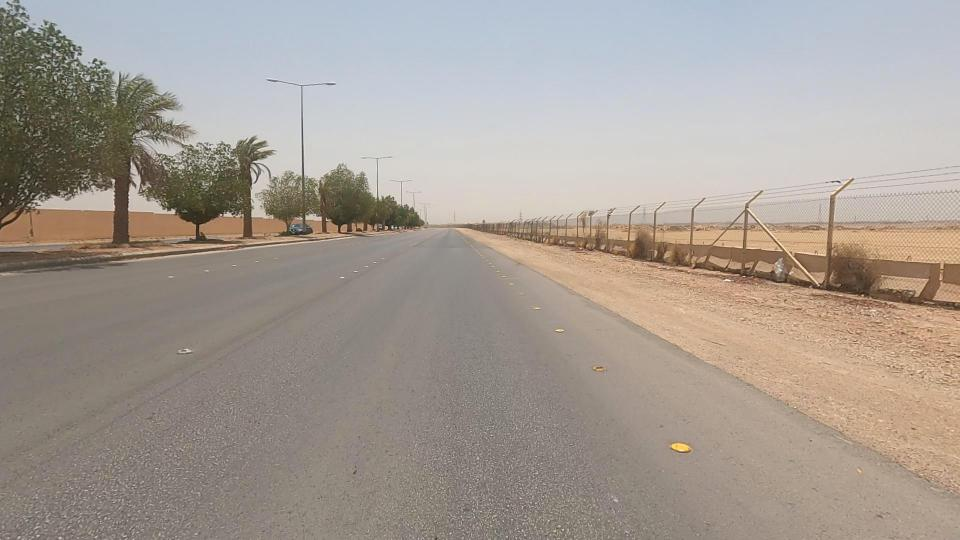GARBAGE: (728, 238, 828, 307)
